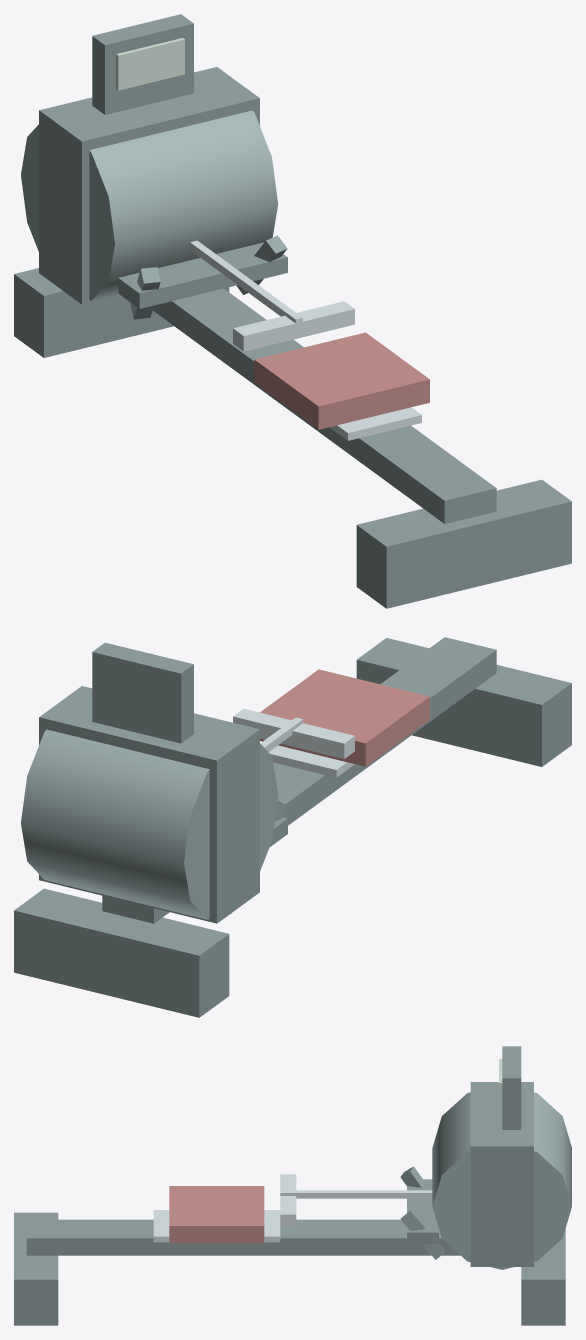
Rendered from rowingMachine.glb.
The picture shows the model from 3 angles, top to bottom: view 1: azimuth 30°, elevation 25°; view 2: azimuth 150°, elevation 25°; view 3: azimuth 270°, elevation 25°; orthographic projection. The views are drawn at different scales.
Parts seen in each view (by area): view 1: rowingMachine; view 2: rowingMachine; view 3: rowingMachine.
Part boxes in pixels (x1=…): rowingMachine: x1=14, y1=14, x2=571, y2=608; rowingMachine: x1=14, y1=637, x2=571, y2=1017; rowingMachine: x1=14, y1=1046, x2=571, y2=1325.
Bounding box in the file's own units: 0.25 × 0.4 × 0.88.
